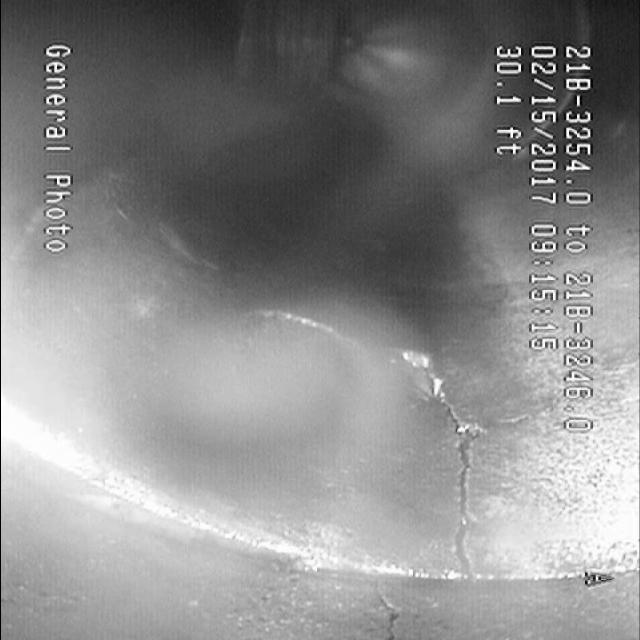Crack: (235, 318, 532, 508)
